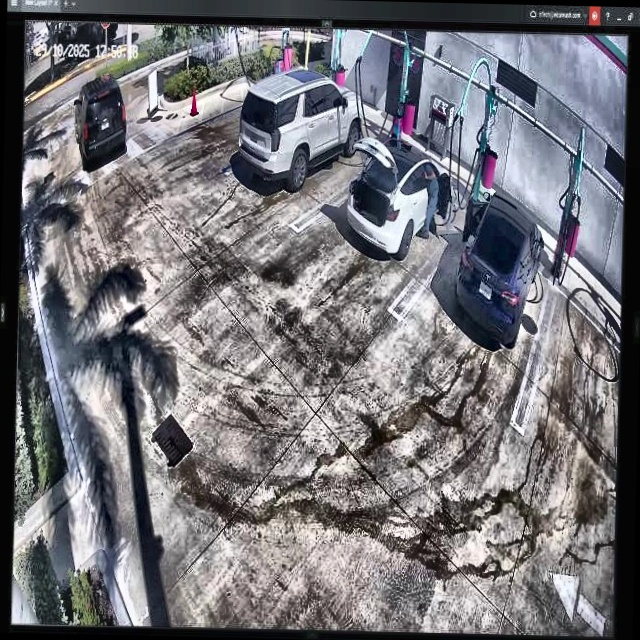Car: (240, 74, 364, 192), (457, 183, 545, 346), (350, 133, 454, 265), (73, 80, 127, 168)
